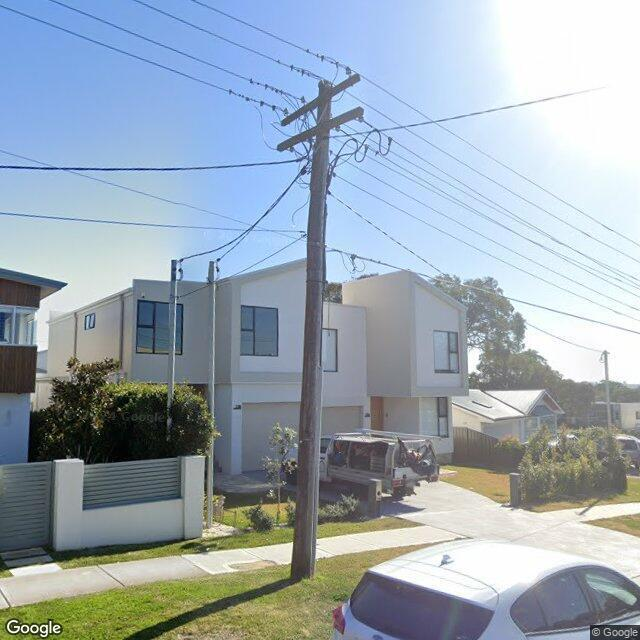crossarm: (280, 72, 360, 126), (276, 107, 364, 152)
steel-pole: (165, 260, 180, 442), (205, 261, 215, 529), (602, 350, 612, 434)
timber-pole: (290, 78, 334, 580)
